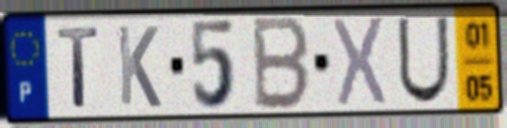5: (189, 16, 243, 114)
B: (252, 14, 312, 113)
K: (114, 22, 164, 111)
T: (54, 24, 103, 111)
U: (394, 15, 451, 107)
X: (330, 13, 389, 110)
